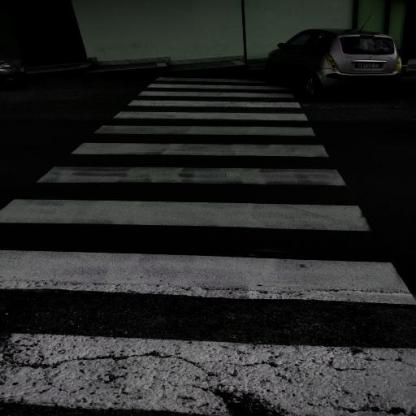crosswalk: (1, 246, 414, 415), (27, 140, 353, 194), (102, 100, 313, 123)
